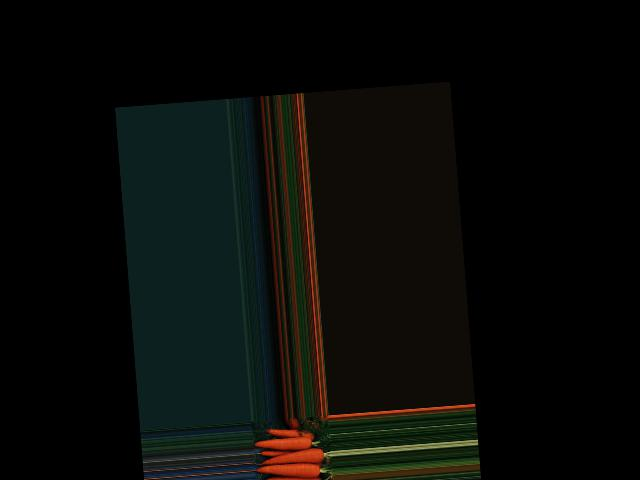carrot: (255, 432, 315, 454)
